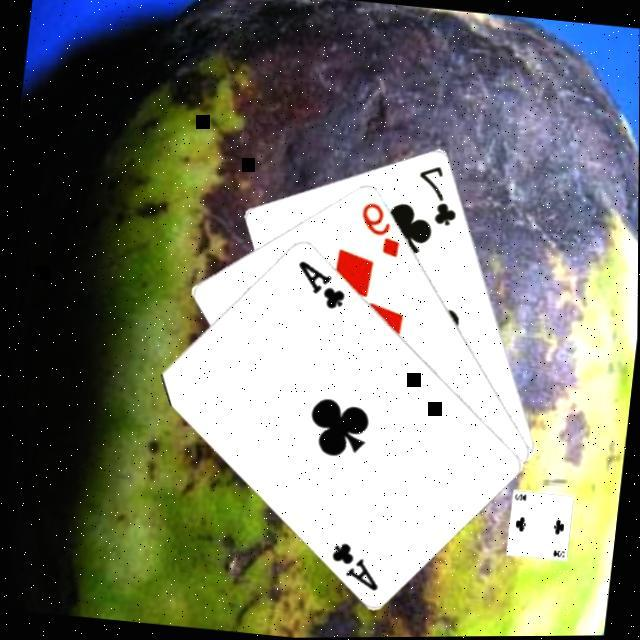7C: (412, 160, 467, 232)
9D: (354, 198, 408, 262)
AC: (326, 538, 388, 596), (292, 257, 353, 315)
